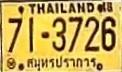1: (28, 17, 34, 52)
2: (84, 16, 98, 51)
3: (51, 16, 65, 51)
6: (101, 16, 115, 50)
7: (7, 17, 22, 52), (68, 16, 82, 52)
SPK: (25, 55, 98, 71)
